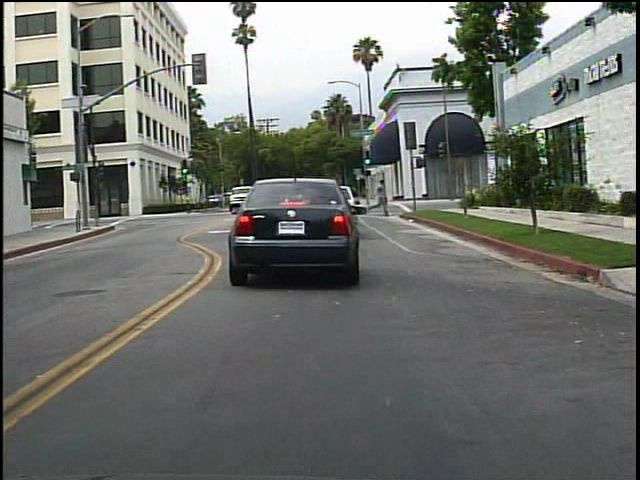person: (368, 176, 391, 220)
